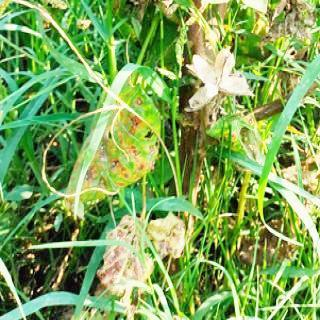blight: (60, 82, 159, 206), (100, 210, 183, 311)
